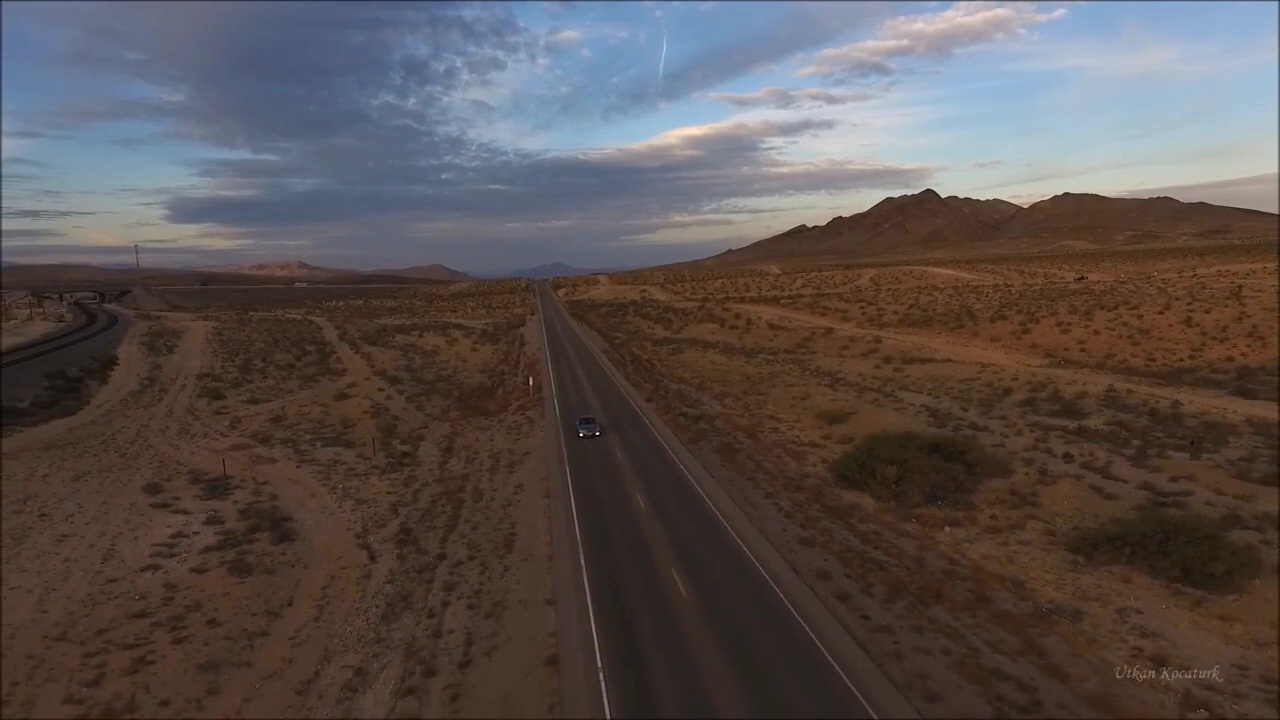araba: (573, 413, 600, 438)
